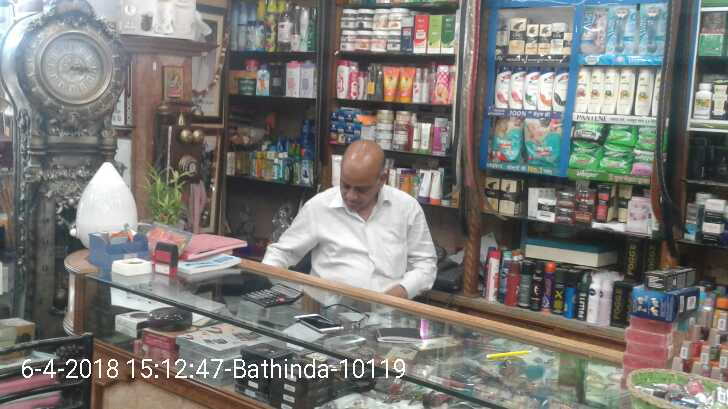venus: (607, 4, 637, 53), (639, 4, 665, 53), (582, 6, 604, 52)
